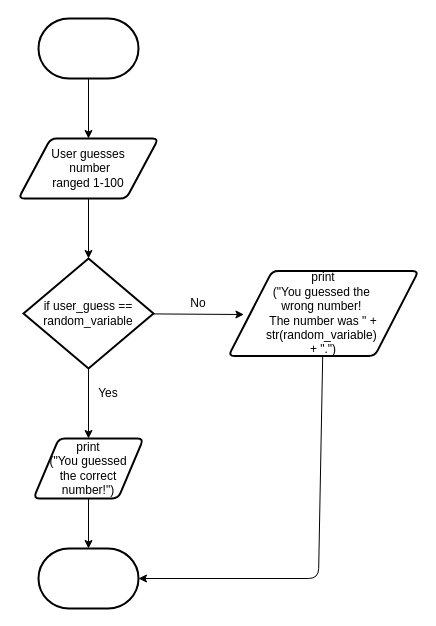
The diagram is 436 pixels wide and 626 high, and some of its shapes have lost their labels. The centre of each missing label's shape, as x and y in pixels:
Start: the point at 88,48
Stop: the point at 88,578
